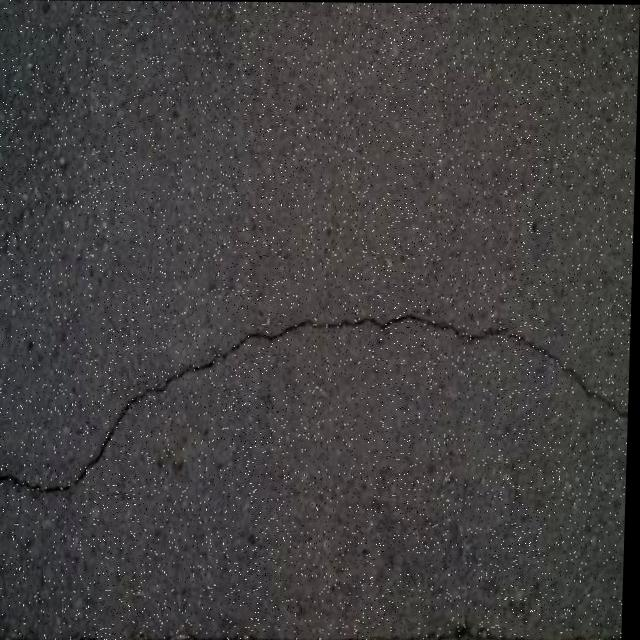Crack: (0, 298, 629, 515)
